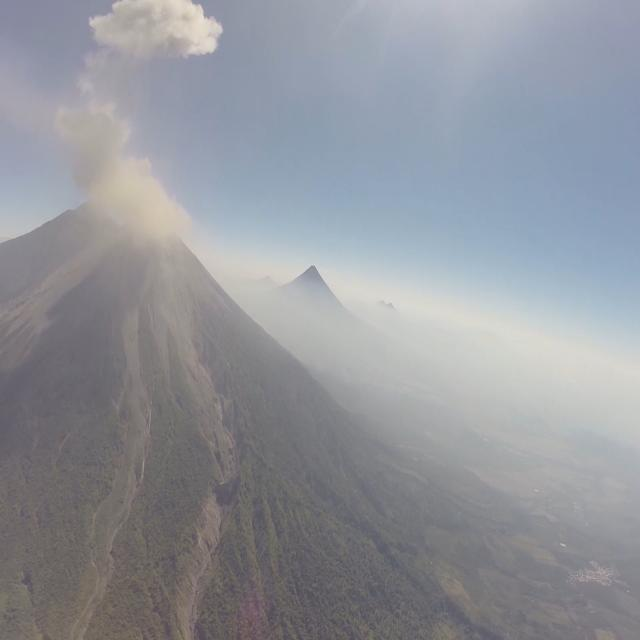Plume: (54, 90, 194, 242), (90, 1, 231, 68)
